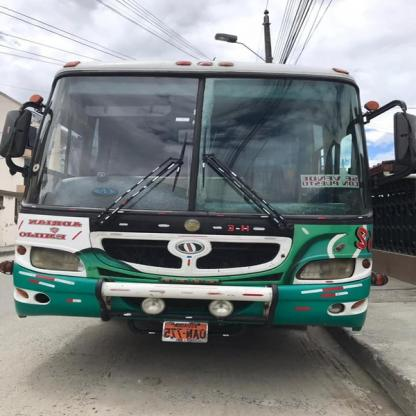Placa: (158, 318, 212, 346)
